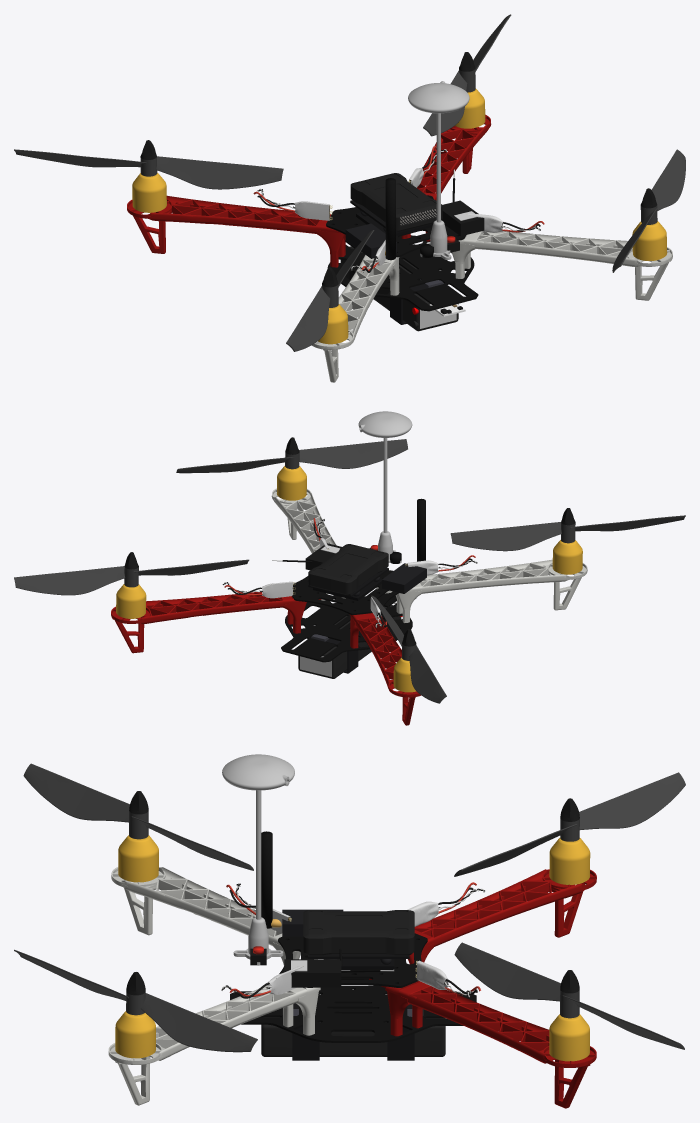
File: quad450.glb
The picture shows the model from 3 angles, top to bottom: view 1: azimuth 30°, elevation 25°; view 2: azimuth 150°, elevation 25°; view 3: azimuth 270°, elevation 25°; orthographic projection. The views are drawn at different scales.
Parts seen in each view (by area): view 1: braco__4__m0, braco__2__m0, helice__4__m1, pdb__0__m0, braco__3__m0, pixhawk__m2, gps__m0, braco__1__m0, helice__3__m0, helice__2__m1, helice__1__m0, frame__0__m0 (+9 smaller); view 2: braco__3__m0, braco__1__m0, pdb__0__m0, helice__1__m0, helice__3__m0, helice__2__m1, pixhawk__m2, braco__4__m0, gps__m0, braco__2__m0, helice__4__m1, frame__0__m0 (+7 smaller); view 3: braco__1__m0, pdb__0__m0, braco__4__m0, pixhawk__m2, braco__2__m0, braco__3__m0, helice__2__m1, helice__1__m0, helice__3__m0, helice__4__m1, gps__m0, bat3s__m0 (+12 smaller).
Part boxes in pixels (x1,y1,x2,y2): braco__4__m0: (127, 195, 345, 267); braco__2__m0: (451, 231, 672, 300); helice__4__m1: (14, 149, 283, 189); pdb__0__m0: (327, 235, 478, 311); braco__3__m0: (311, 255, 399, 382); pixhawk__m2: (350, 173, 442, 231); gps__m0: (408, 81, 469, 259); braco__1__m0: (401, 114, 491, 241); helice__3__m0: (286, 230, 374, 351); helice__2__m1: (612, 149, 685, 272); helice__1__m0: (423, 14, 511, 136); frame__0__m0: (326, 195, 466, 257); braco__3__m0: (376, 559, 587, 622); braco__1__m0: (111, 592, 321, 653); pdb__0__m0: (281, 589, 416, 662); helice__1__m0: (14, 559, 249, 595); helice__3__m0: (450, 515, 685, 551); helice__2__m1: (176, 439, 407, 473); pixhawk__m2: (308, 544, 388, 595); braco__4__m0: (349, 613, 420, 725); gps__m0: (358, 411, 412, 563); braco__2__m0: (271, 488, 345, 600); helice__4__m1: (371, 595, 446, 703); frame__0__m0: (292, 570, 398, 614); braco__1__m0: (369, 978, 596, 1108); pdb__0__m0: (230, 975, 476, 1042); braco__4__m0: (408, 869, 596, 964); pixhawk__m2: (303, 910, 414, 955); braco__2__m0: (108, 985, 320, 1105); braco__3__m0: (111, 867, 317, 965); helice__2__m1: (14, 949, 257, 1052); helice__1__m0: (454, 942, 684, 1049); helice__3__m0: (23, 763, 253, 870); helice__4__m1: (454, 772, 685, 876); gps__m0: (222, 754, 294, 965); bat3s__m0: (261, 1008, 445, 1056).
Size of the model in its own units: 0.5026 by 0.2323 by 0.4955.
